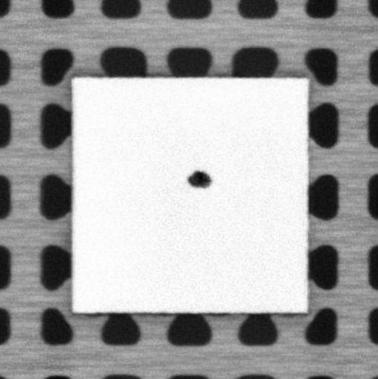DIE_INK: (186, 168, 214, 191)
